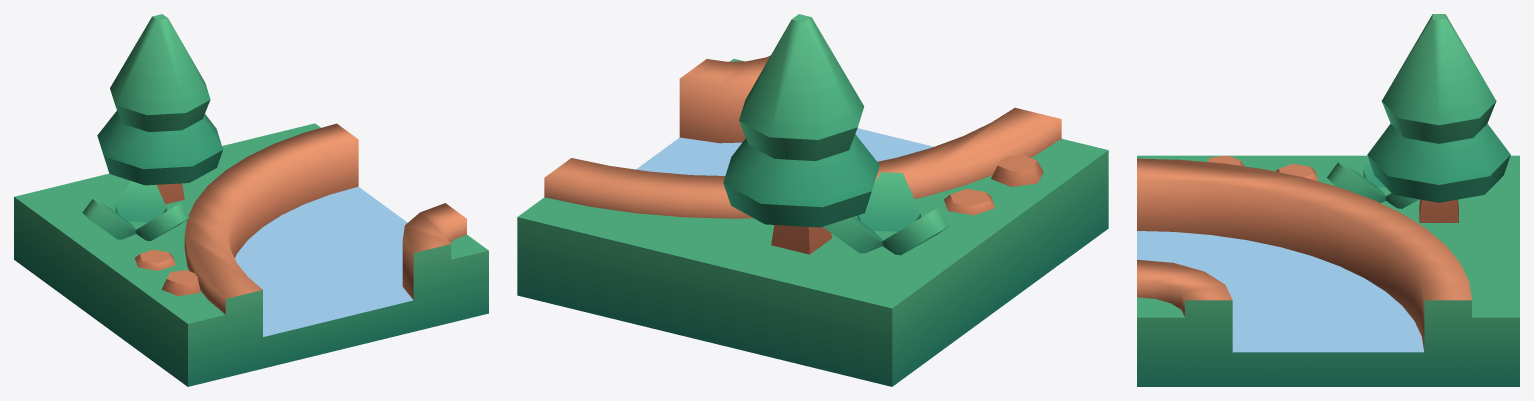
Rendered from tile-river-corner.glb.
The picture shows the model from 3 angles, left to right: view 1: azimuth 30°, elevation 25°; view 2: azimuth 150°, elevation 25°; view 3: azimuth 270°, elevation 25°; orthographic projection. The views are drawn at different scales.
Visible parts, largest first — view 1: tile-river-corner; view 2: tile-river-corner; view 3: tile-river-corner.
Part boxes in pixels (<box>): tile-river-corner: <box>14,14,488,386</box>; tile-river-corner: <box>517,14,1108,386</box>; tile-river-corner: <box>1137,14,1519,386</box>.
Bounding box in the file's own units: 1 × 0.77 × 1.
1 material, 1 textured.
